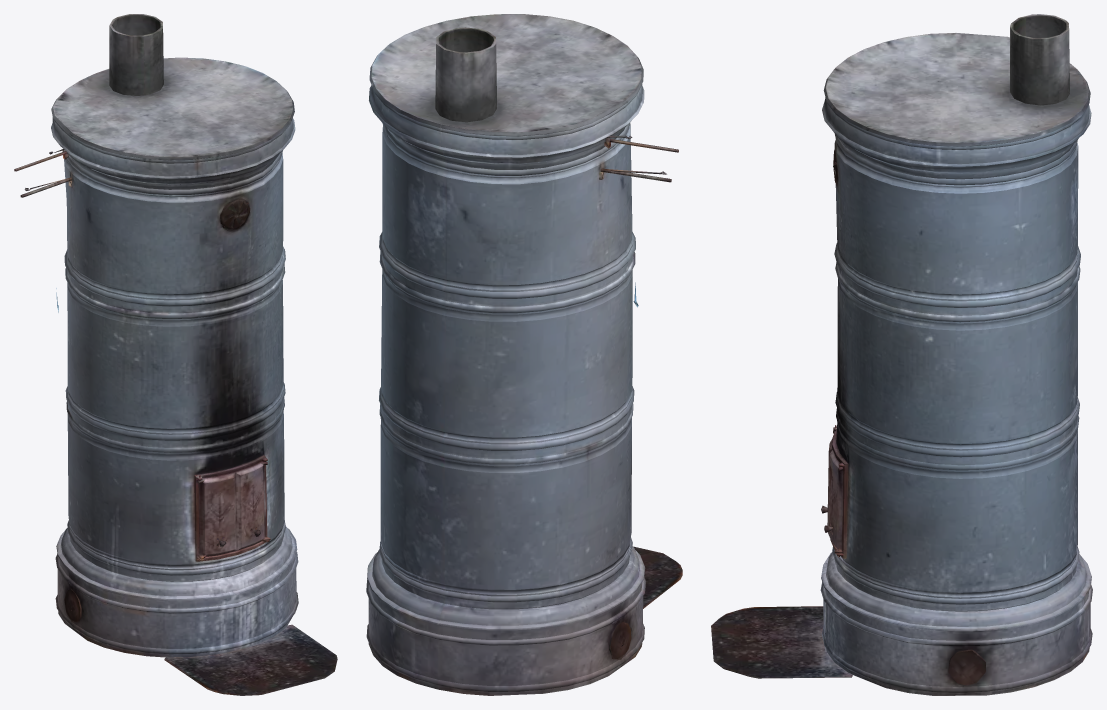
File: scandinavian_masonry_heater.glb
3 views of the same model, side by side, from view 1: azimuth 30°, elevation 25°; view 2: azimuth 150°, elevation 25°; view 3: azimuth 270°, elevation 25° (orthographic). The views are drawn at different scales.
Visible parts, largest first — view 1: scandinavian_masonry_heater; view 2: scandinavian_masonry_heater; view 3: scandinavian_masonry_heater.
Part boxes in pixels (<box>): scandinavian_masonry_heater: <box>14,14,337,695</box>; scandinavian_masonry_heater: <box>366,14,682,695</box>; scandinavian_masonry_heater: <box>711,14,1092,695</box>.
Size of the model in its own units: 1.17 by 2.36 by 1.33.
1 material, 1 textured.
